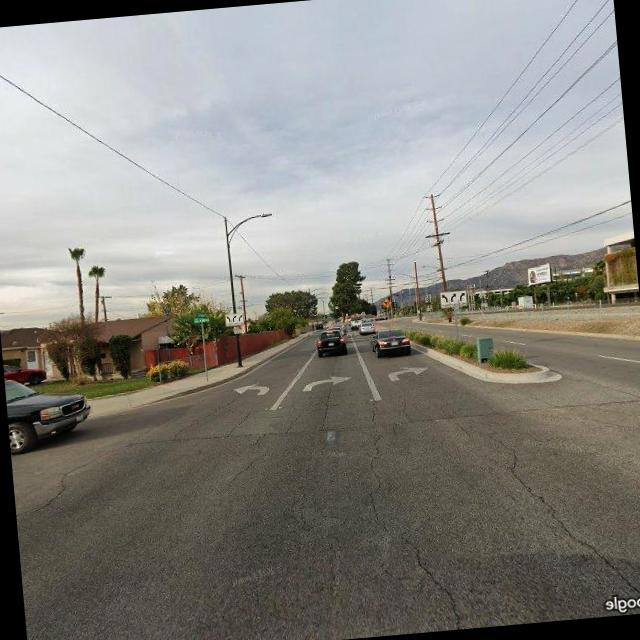pothole: (491, 418, 640, 615), (365, 392, 469, 630), (20, 430, 144, 512), (170, 385, 250, 438), (274, 392, 314, 434), (219, 405, 258, 439)
